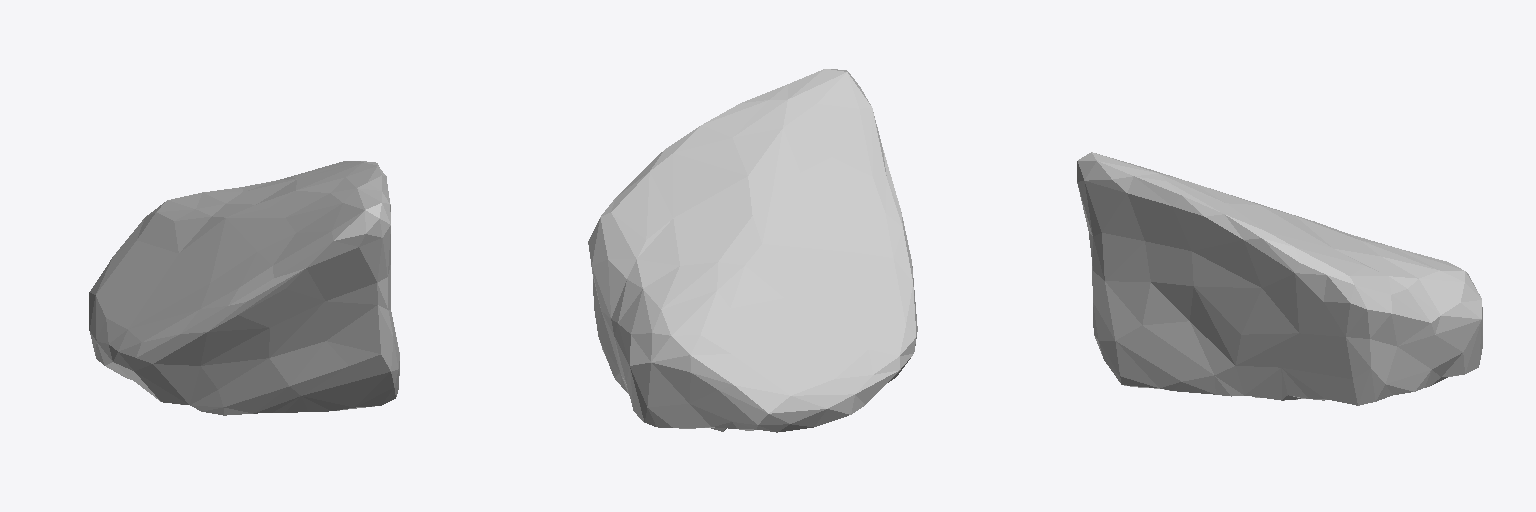
The model's file is model-init.obj.
3 views of the same model, side by side, from view 1: azimuth 30°, elevation 25°; view 2: azimuth 150°, elevation 25°; view 3: azimuth 270°, elevation 25° (orthographic).
Parts seen in each view (by area): view 1: Mesh1 skp29_1 Model; view 2: Mesh1 skp29_1 Model; view 3: Mesh1 skp29_1 Model.
Part boxes in pixels (bbox=[...]): Mesh1 skp29_1 Model: bbox=[89, 161, 399, 415]; Mesh1 skp29_1 Model: bbox=[588, 69, 917, 432]; Mesh1 skp29_1 Model: bbox=[1077, 152, 1482, 405].
Bounding box in the file's own units: 0.7059 × 0.5494 × 0.9021.